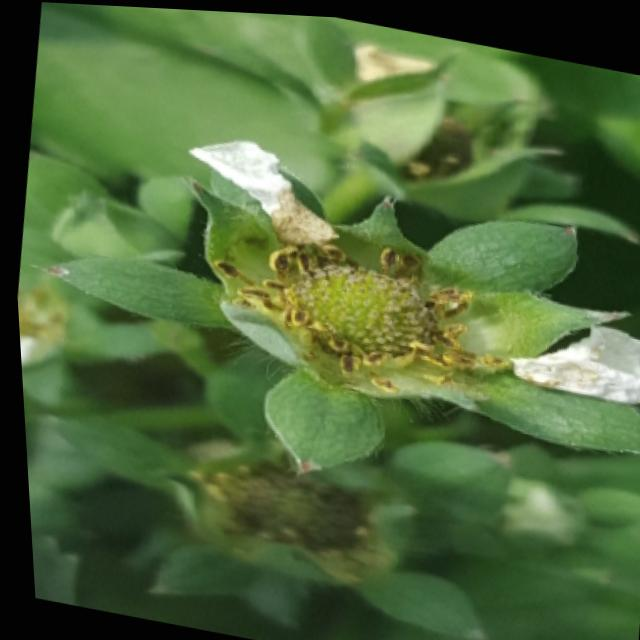Blossom Blight: (207, 230, 513, 393)
